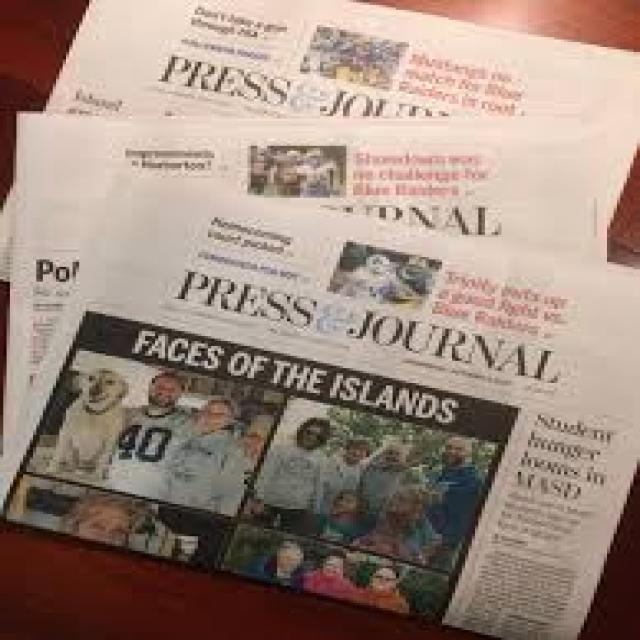newspaper: (15, 175, 637, 640), (0, 0, 640, 262)
